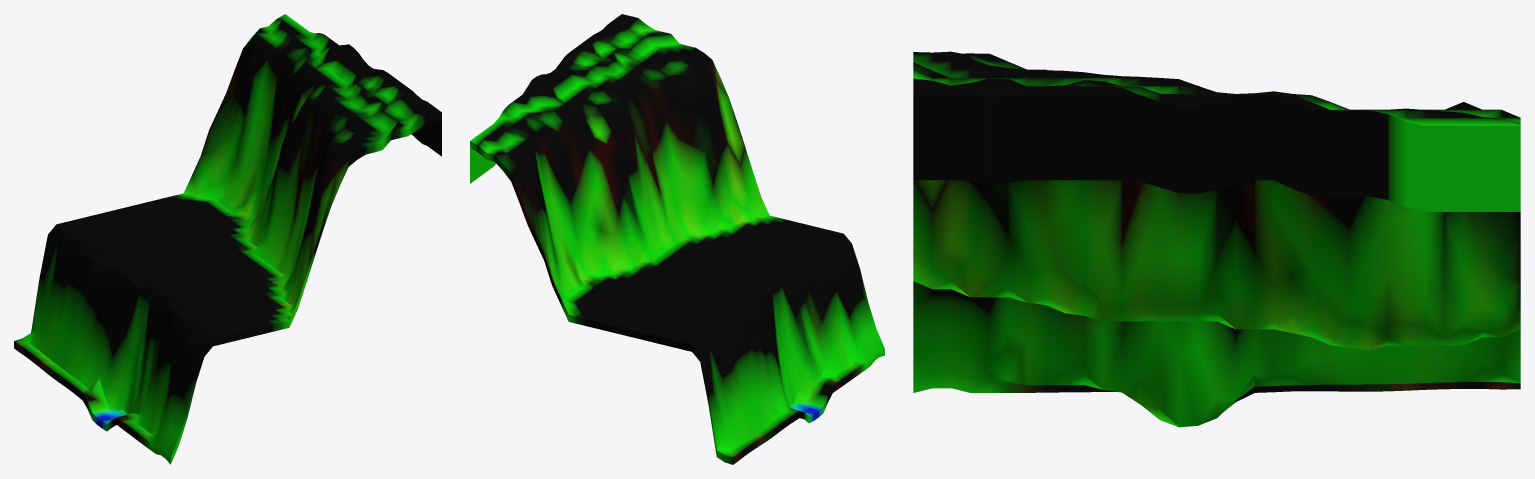
The model's file is Terrain_04_00.fbx.
3 renders of one model, left to right at view 1: azimuth 30°, elevation 25°; view 2: azimuth 150°, elevation 25°; view 3: azimuth 270°, elevation 25°, orthographic. The views are drawn at different scales.
Parts seen in each view (by area): view 1: Terrain_04_00_LOD0; view 2: Terrain_04_00_LOD0; view 3: Terrain_04_00_LOD0.
Boxes of the visible parts, <box> form: Terrain_04_00_LOD0: <box>14,14,441,464</box>; Terrain_04_00_LOD0: <box>470,14,884,464</box>; Terrain_04_00_LOD0: <box>913,51,1520,427</box>.
Size of what is drawn, in the model's own units: 384 by 406 by 384.
